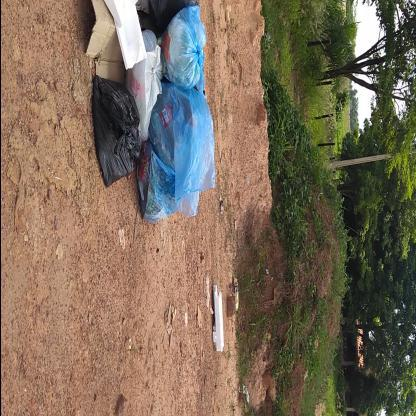lixo: (95, 3, 208, 198)
